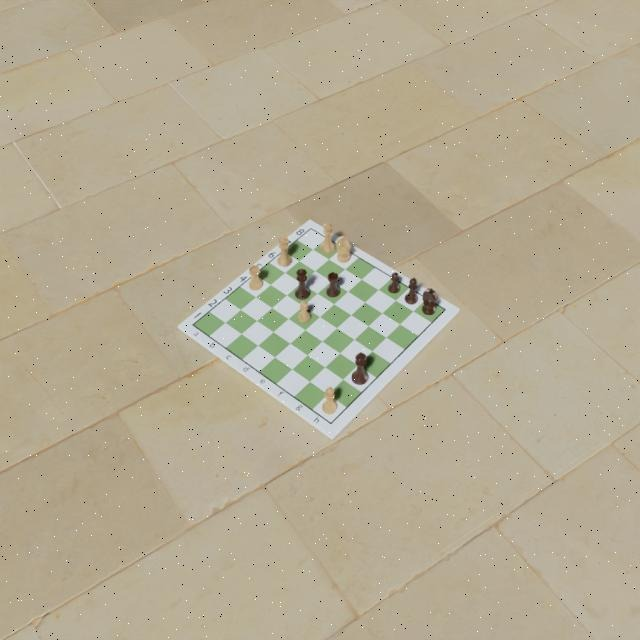black-bishop: (404, 276, 419, 305)
black-king: (351, 351, 369, 384)
black-knight: (421, 287, 439, 317)
black-pawn: (388, 270, 400, 294)
black-queen: (293, 268, 311, 300)
black-rook: (327, 270, 341, 297)
white-bishop: (321, 386, 339, 414)
white-king: (320, 220, 336, 255)
white-knight: (335, 235, 353, 263)
white-pawn: (296, 300, 311, 323)
white-queen: (276, 236, 291, 268)
white-rook: (248, 265, 263, 291)
